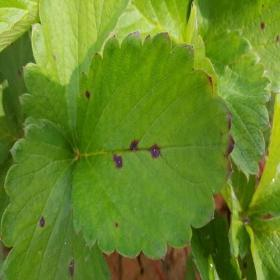Leaf Spot: (71, 31, 237, 260), (0, 118, 111, 279), (18, 0, 132, 156), (204, 0, 279, 93), (0, 30, 36, 140), (237, 243, 258, 279)
